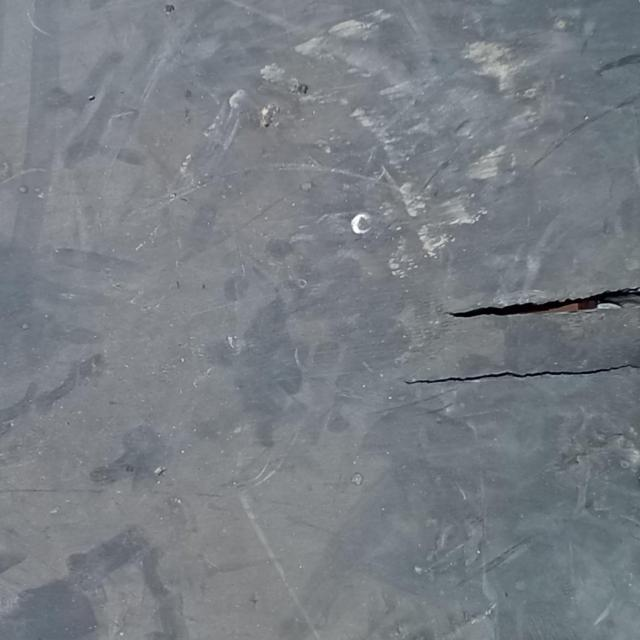Tear: (405, 351, 639, 398), (447, 275, 640, 323)
